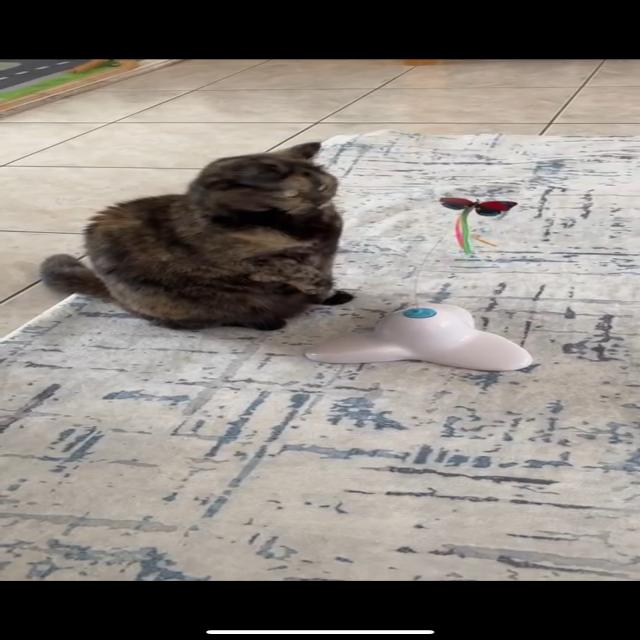authorized: (38, 141, 355, 331)
